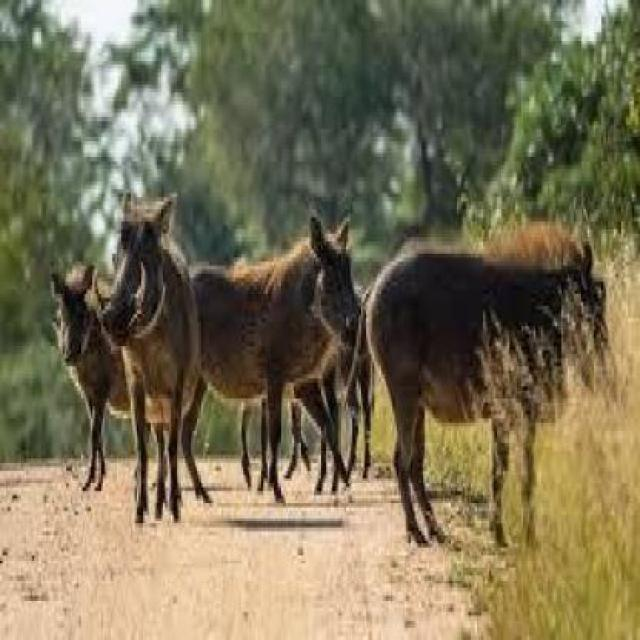wildboar: (337, 230, 611, 552), (148, 212, 357, 508), (47, 260, 216, 506), (91, 184, 206, 530), (234, 263, 383, 495)
